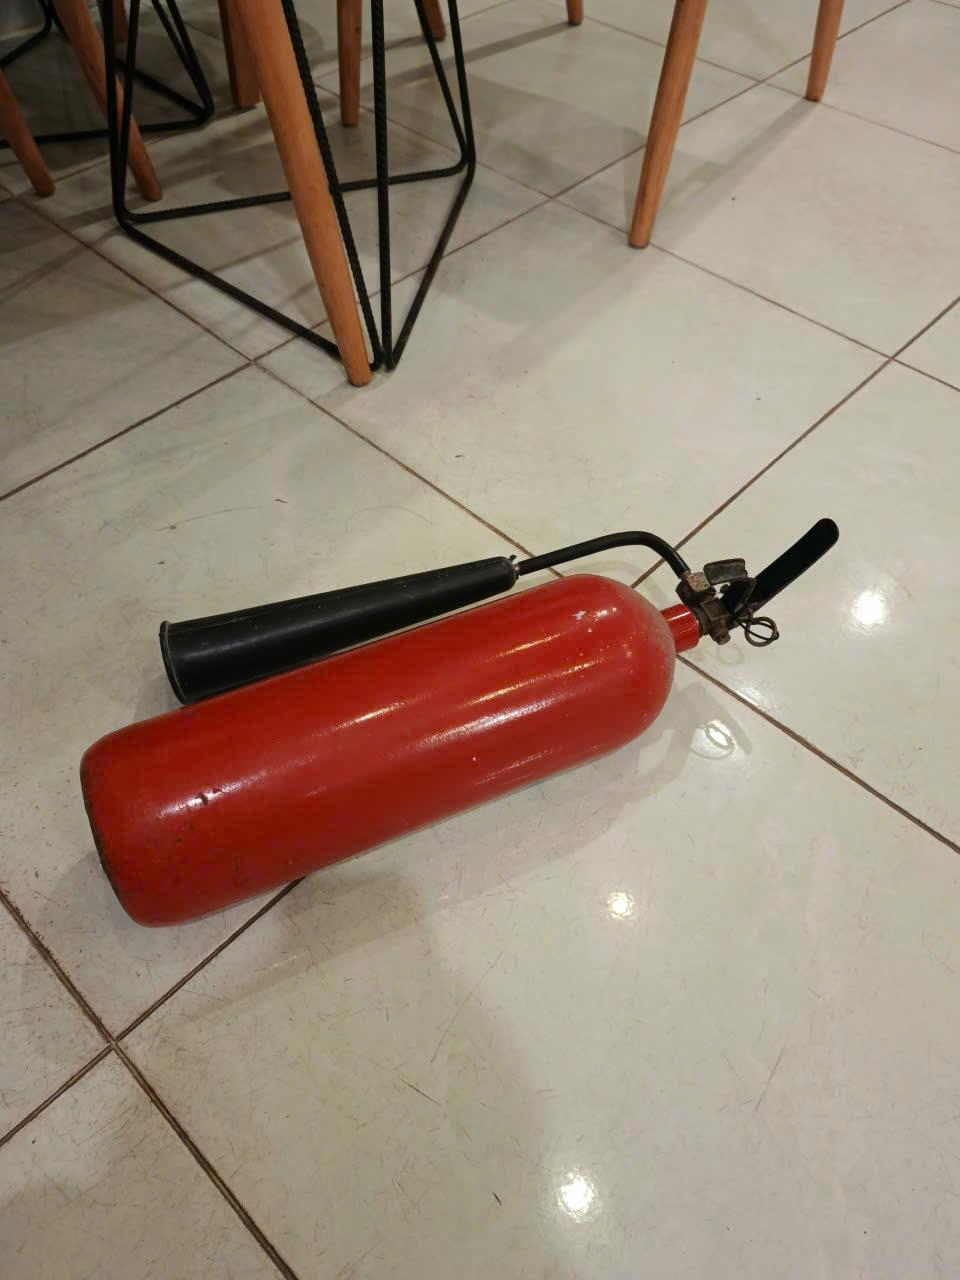Con lai: (80, 513, 844, 927)
